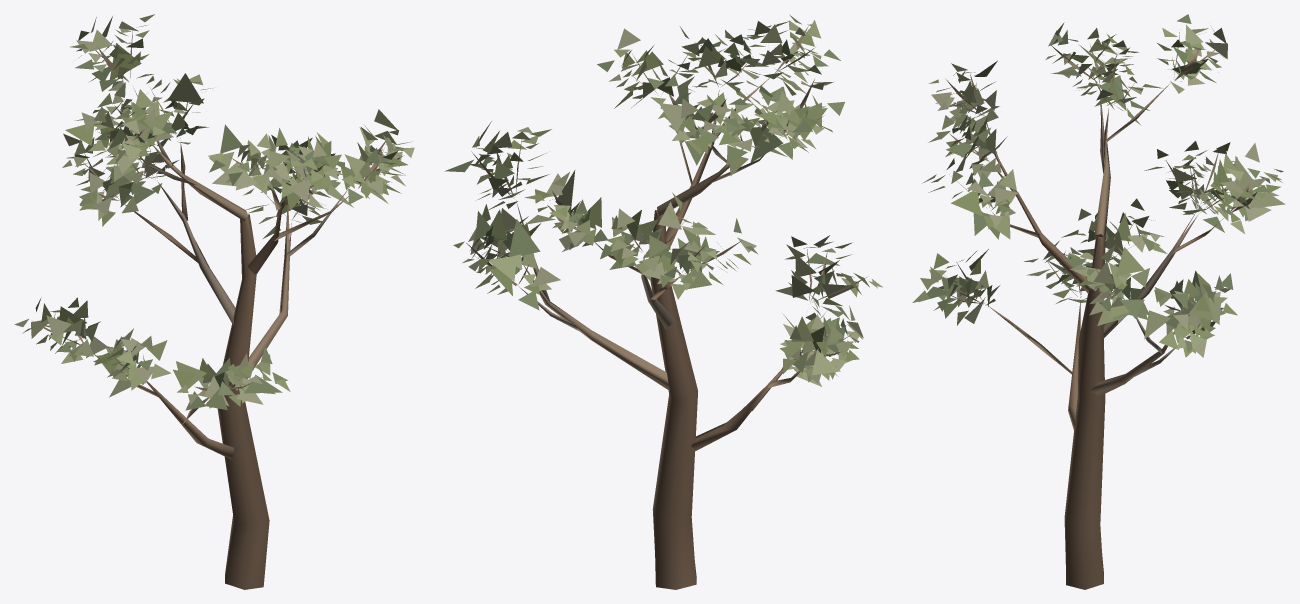
3 views of the same model, side by side, from view 1: azimuth 30°, elevation 25°; view 2: azimuth 150°, elevation 25°; view 3: azimuth 270°, elevation 25° (orthographic). The views are drawn at different scales.
Parts seen in each view (by area): view 1: t01-lod; view 2: t01-lod; view 3: t01-lod.
Boxes of the visible parts, x1,y1,x2,y2 form: t01-lod: [14, 14, 414, 589]; t01-lod: [444, 14, 882, 589]; t01-lod: [912, 14, 1285, 589].
Bounding box in the file's own units: 1.91 × 2.5 × 1.62.
